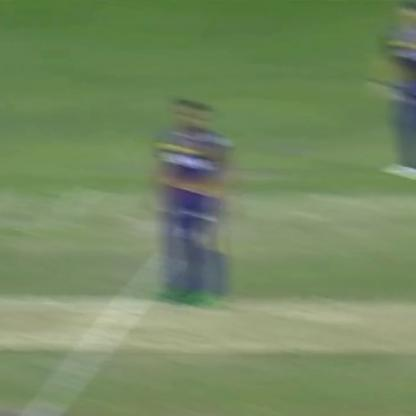pitch: (6, 293, 416, 385)
